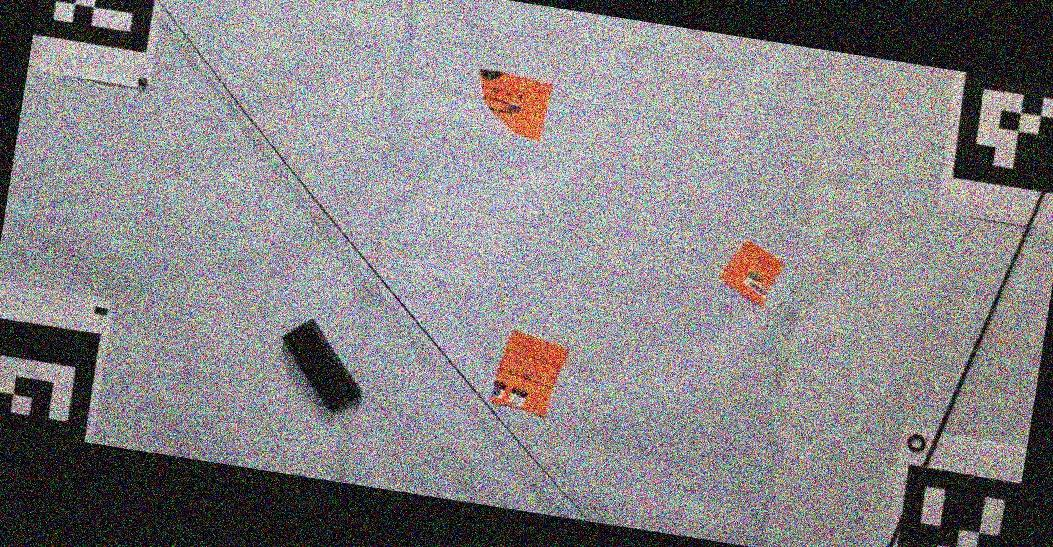obstacle: (282, 317, 365, 414), (490, 328, 567, 418), (478, 67, 552, 141), (721, 237, 783, 309)
